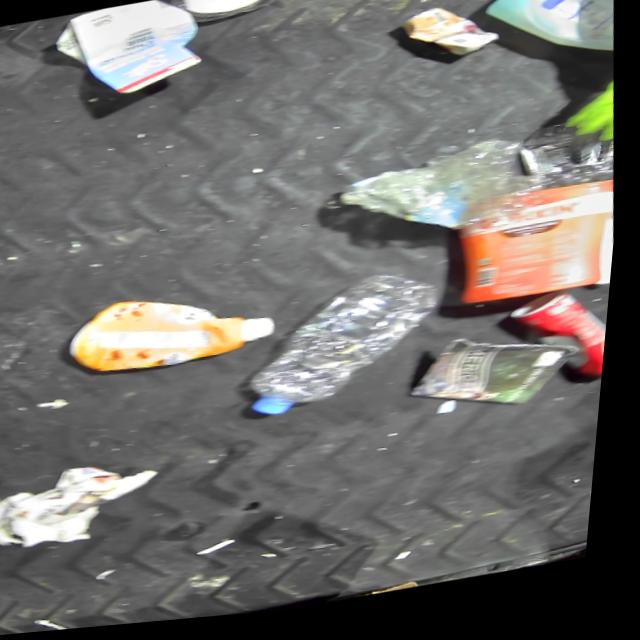can: (408, 326, 594, 432), (506, 291, 617, 408), (394, 0, 507, 78)
milk_jug: (471, 0, 622, 87)
non_white_jug: (65, 278, 288, 387), (453, 186, 624, 318)
plastic_bottle: (240, 271, 462, 430), (336, 140, 565, 258), (86, 613, 239, 631)
